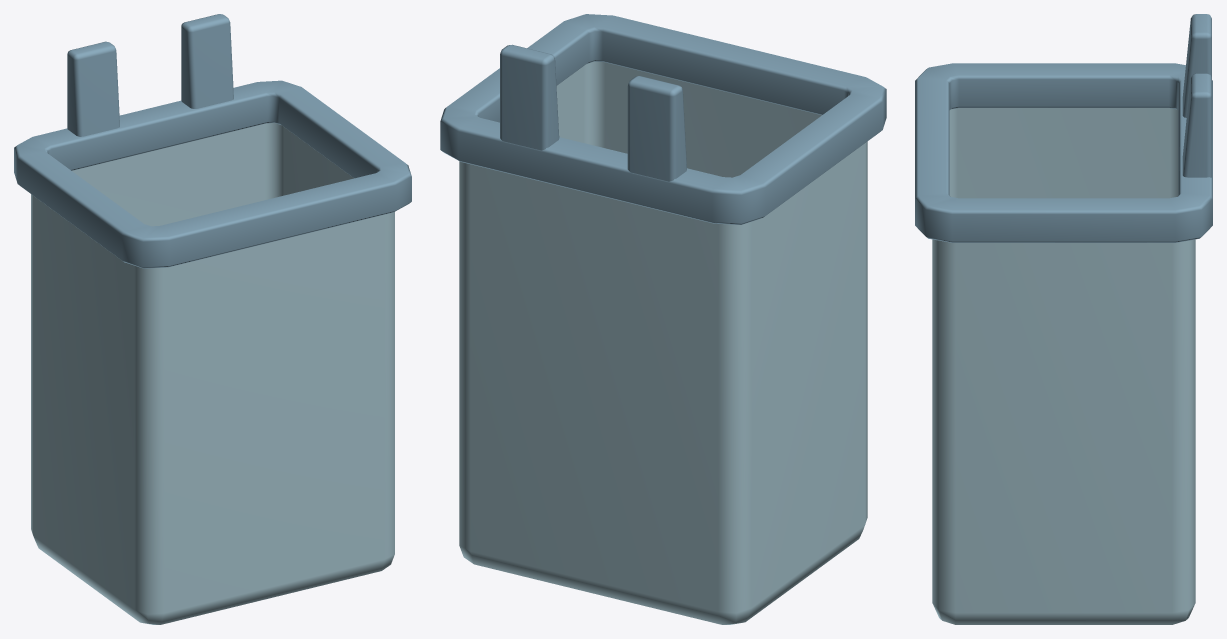
The model's file is Laundry_basket_1.glb.
3 renders of one model, left to right at view 1: azimuth 30°, elevation 25°; view 2: azimuth 150°, elevation 25°; view 3: azimuth 270°, elevation 25°, orthographic. The views are drawn at different scales.
Parts seen in each view (by area): view 1: Laundry_basket_1; view 2: Laundry_basket_1; view 3: Laundry_basket_1.
Boxes of the visible parts, x1,y1,x2,y2 form: Laundry_basket_1: (14,14,411,624); Laundry_basket_1: (440,14,886,624); Laundry_basket_1: (915,14,1212,624).
Size of the model in its own units: 0.7393 by 1.18 by 0.6223.
1 material, 1 textured.
